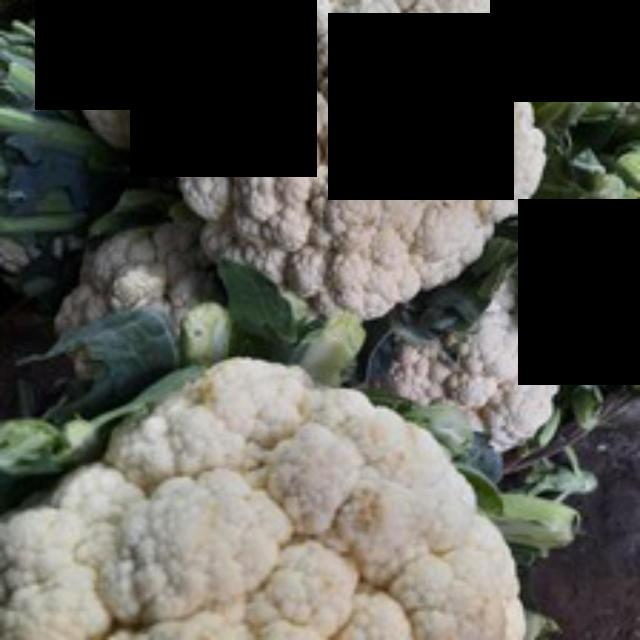cauliflower: (0, 360, 537, 637)
